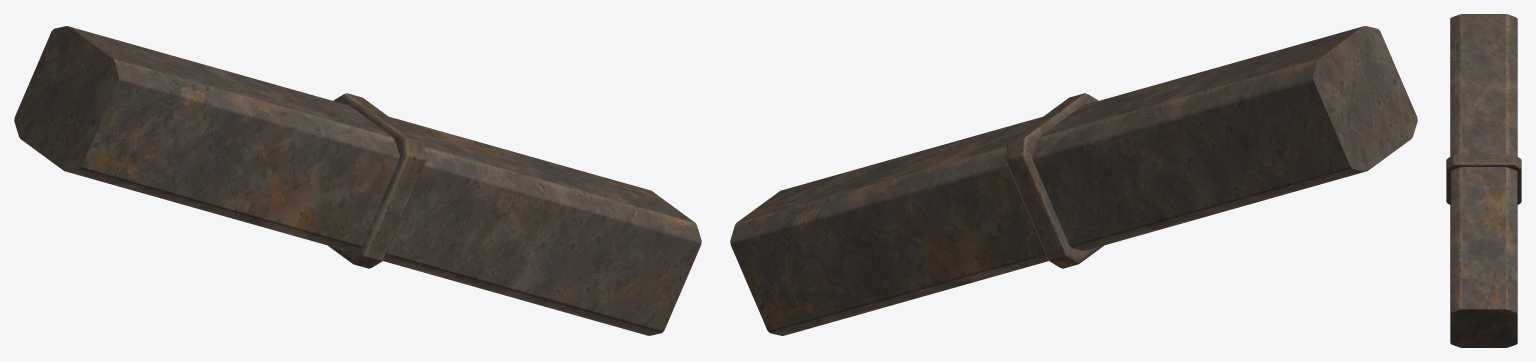
The picture shows the model from 3 angles, left to right: view 1: azimuth 30°, elevation 25°; view 2: azimuth 150°, elevation 25°; view 3: azimuth 270°, elevation 25°; orthographic projection. The views are drawn at different scales.
Visible parts, largest first — view 1: SM_BB_T3_Extended_Beam_Thin_Med_Shallow_LOD0; view 2: SM_BB_T3_Extended_Beam_Thin_Med_Shallow_LOD0; view 3: SM_BB_T3_Extended_Beam_Thin_Med_Shallow_LOD0.
Part boxes in pixels (x1,y1,x2,y2): SM_BB_T3_Extended_Beam_Thin_Med_Shallow_LOD0: [14, 26, 701, 335]; SM_BB_T3_Extended_Beam_Thin_Med_Shallow_LOD0: [730, 26, 1417, 335]; SM_BB_T3_Extended_Beam_Thin_Med_Shallow_LOD0: [1446, 14, 1521, 347].
Size of the model in its own units: 1.63 by 1 by 0.3368.
Materials: 1 (1 with a texture image).
